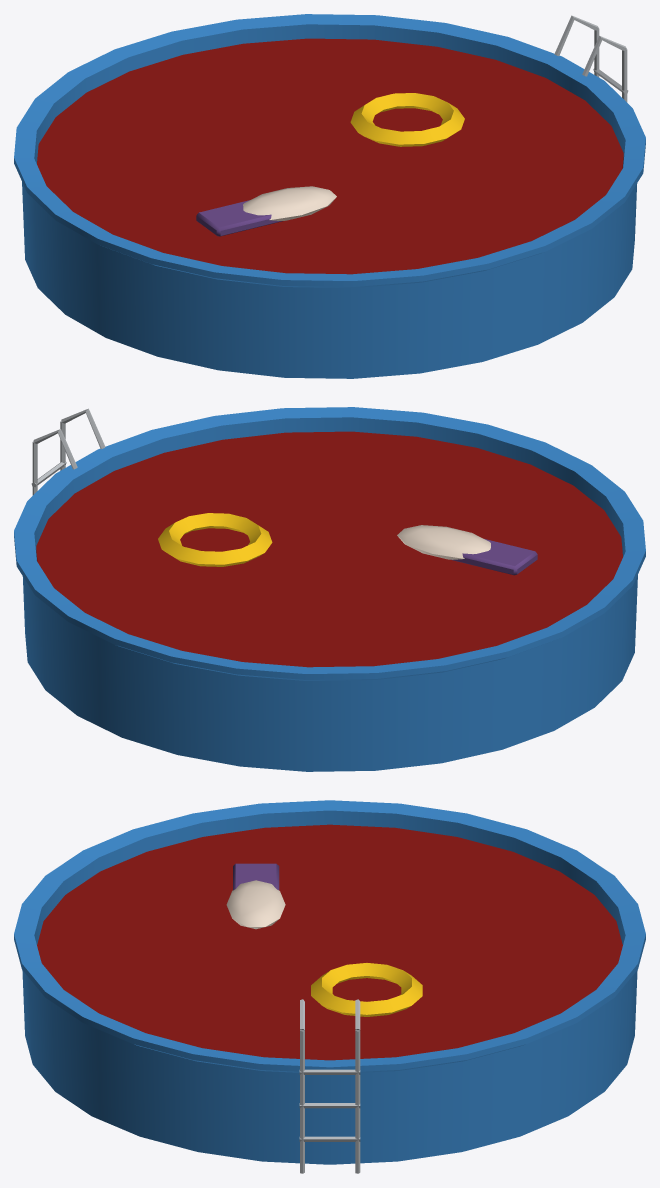
Rendered from red_pool.glb.
The picture shows the model from 3 angles, top to bottom: view 1: azimuth 30°, elevation 25°; view 2: azimuth 150°, elevation 25°; view 3: azimuth 270°, elevation 25°; orthographic projection.
Parts seen in each view (by area): view 1: red_pool; view 2: red_pool; view 3: red_pool.
Boxes of the visible parts, <box> form: red_pool: <box>14,14,645,378</box>; red_pool: <box>14,407,645,771</box>; red_pool: <box>14,800,645,1173</box>.
Size of the model in its own units: 6.95 by 1.93 by 6.84.
